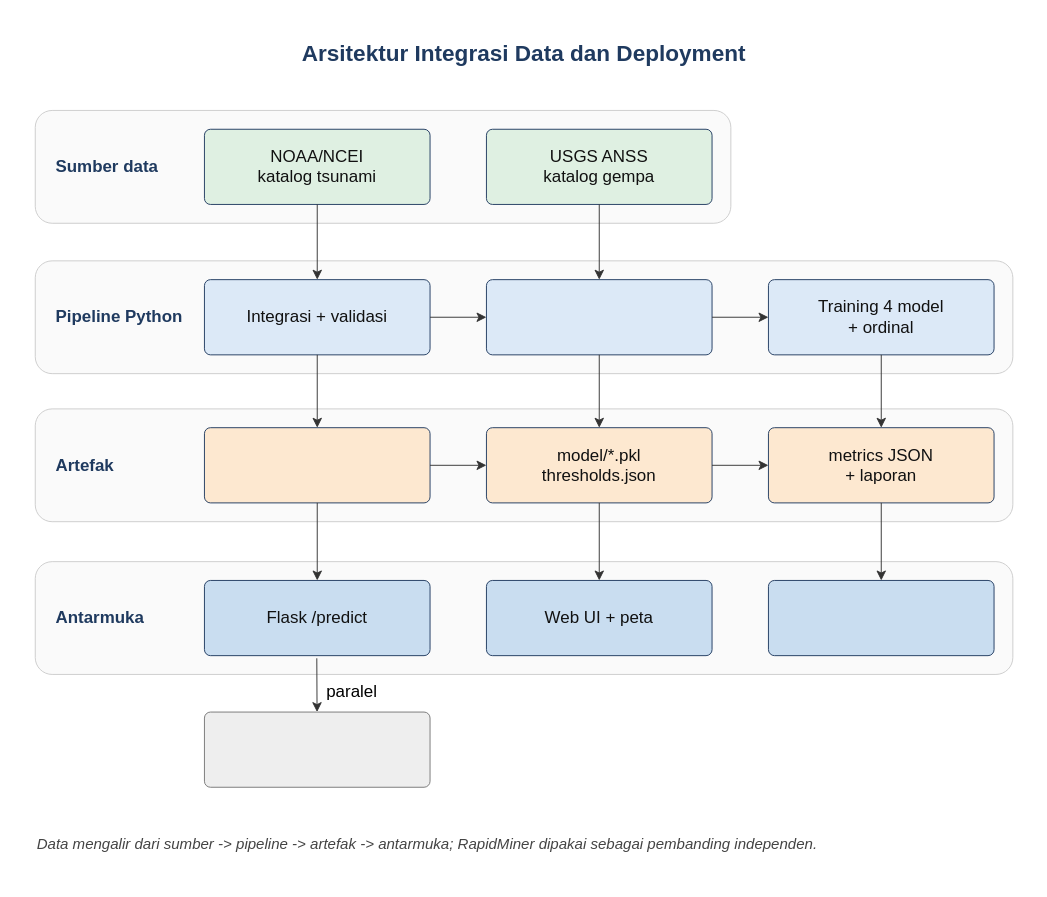
Image size: 1047x897. Some labels were removed from this diagram. The shapes that lost their labels are listed below. From the top down, each one's centre as x and y in pixels, then its label:
At (599,317): "Rekayasa fitur (26 kolom)".
At (317,465): "modeling_dataset.csv".
At (881,618): "CLI predict.py".
At (317,749): "RapidMiner benchmark".
